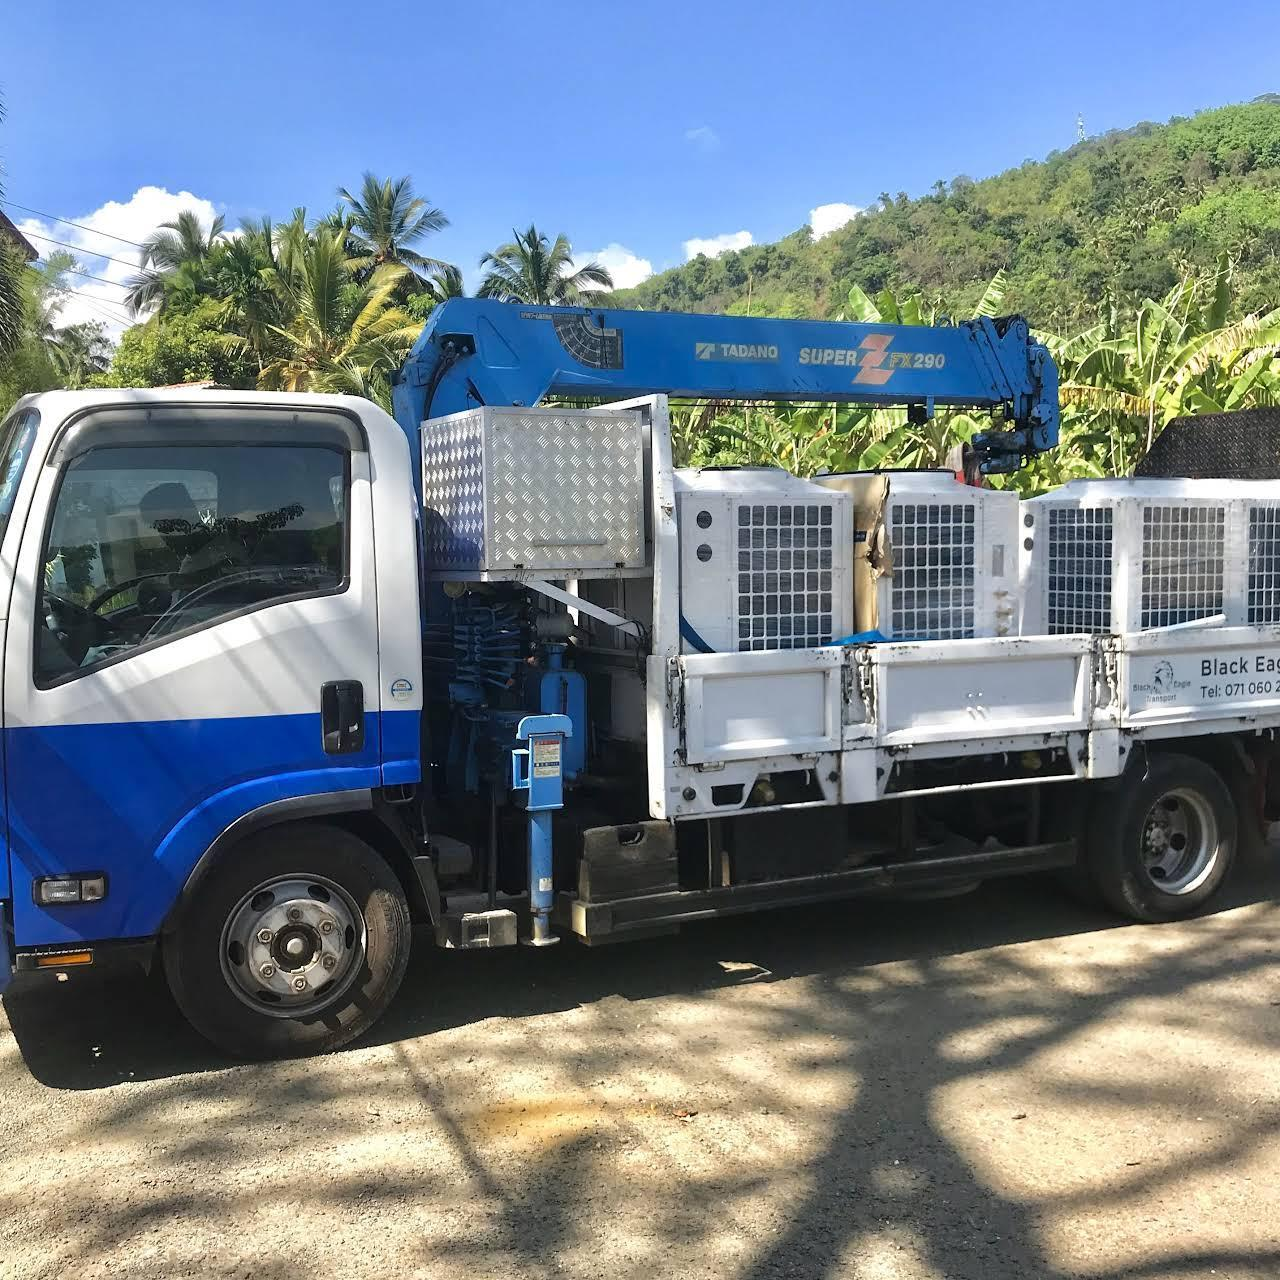truck: (1, 297, 1280, 1060)
